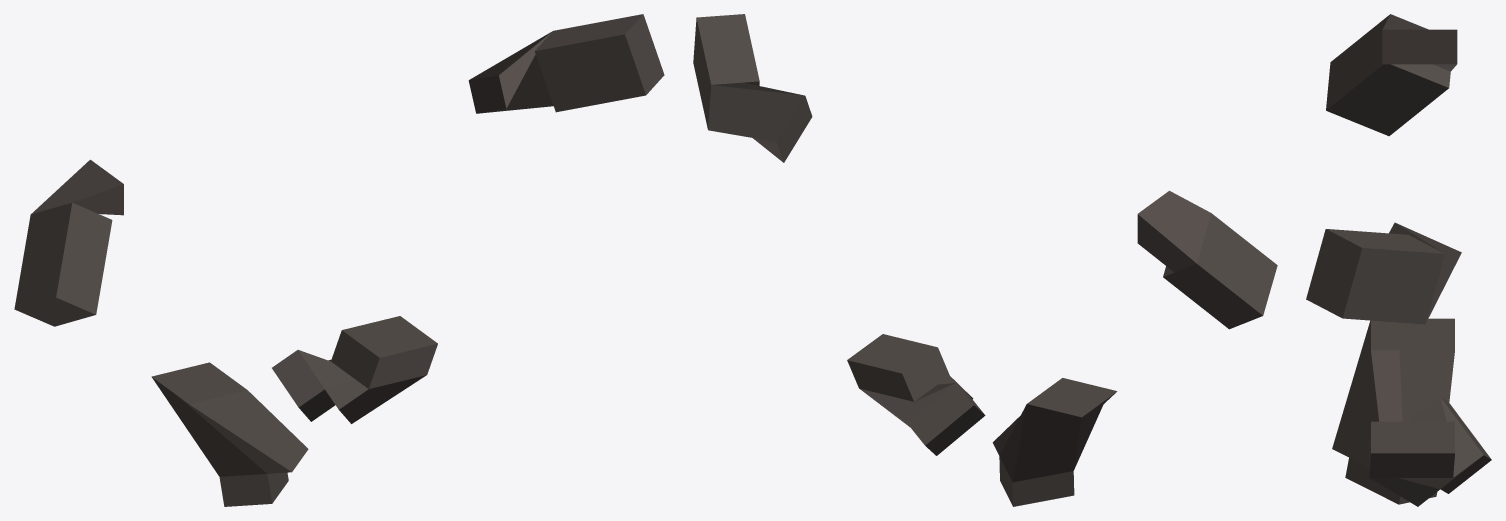
File: Meta_limbs02.glb
The picture shows the model from 3 angles, left to right: view 1: azimuth 30°, elevation 25°; view 2: azimuth 150°, elevation 25°; view 3: azimuth 270°, elevation 25°; orthographic projection. The views are drawn at different scales.
Parts seen in each view (by area): view 1: metaboy_default_detail_rounded.002; view 2: metaboy_default_detail_rounded.002; view 3: metaboy_default_detail_rounded.002.
Boxes of the visible parts, bbox=[...] form: metaboy_default_detail_rounded.002: bbox=[14, 14, 664, 506]; metaboy_default_detail_rounded.002: bbox=[693, 14, 1277, 506]; metaboy_default_detail_rounded.002: bbox=[1306, 14, 1491, 506].
Size of the model in its own units: 4.28 by 2.64 by 0.9904.
Materials: 1 (1 with a texture image).
